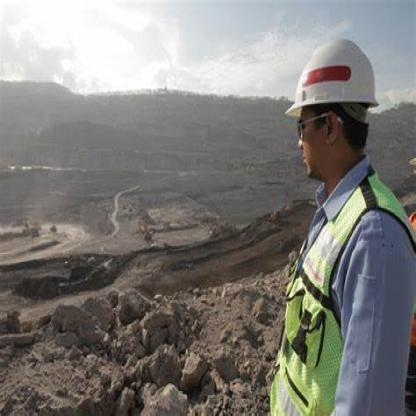person: (269, 26, 415, 415)
